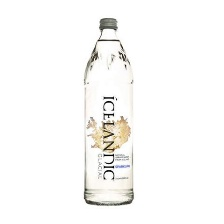bottle: (75, 13, 140, 207)
